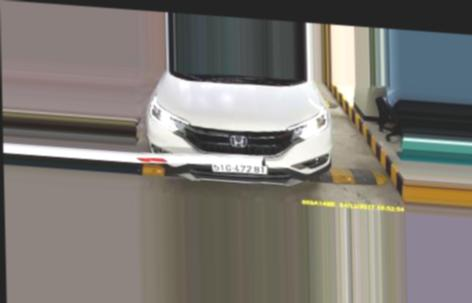License_Plate: (211, 160, 268, 176)
